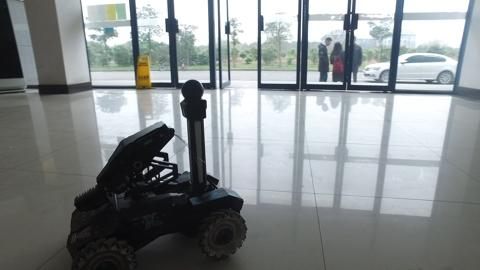chariot: (40, 75, 261, 270)
